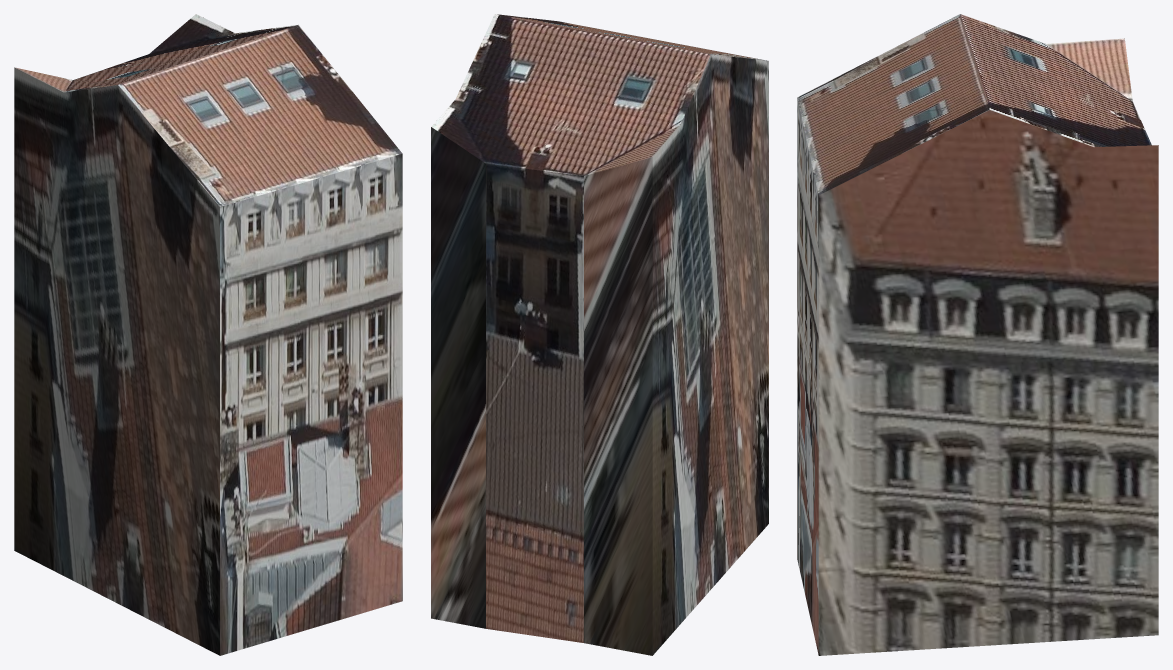
The picture shows the model from 3 angles, left to right: view 1: azimuth 30°, elevation 25°; view 2: azimuth 150°, elevation 25°; view 3: azimuth 270°, elevation 25°; orthographic projection. The views are drawn at different scales.
Visible parts, largest first — view 1: Z_UP; view 2: Z_UP; view 3: Z_UP.
Boxes of the visible parts, box(x1,y1,x2,y2) form: Z_UP: box(14, 14, 402, 655); Z_UP: box(431, 14, 768, 655); Z_UP: box(797, 14, 1158, 655).
Size of the model in its own units: 12.1 by 25.14 by 15.37.
2 materials, 1 textured.
